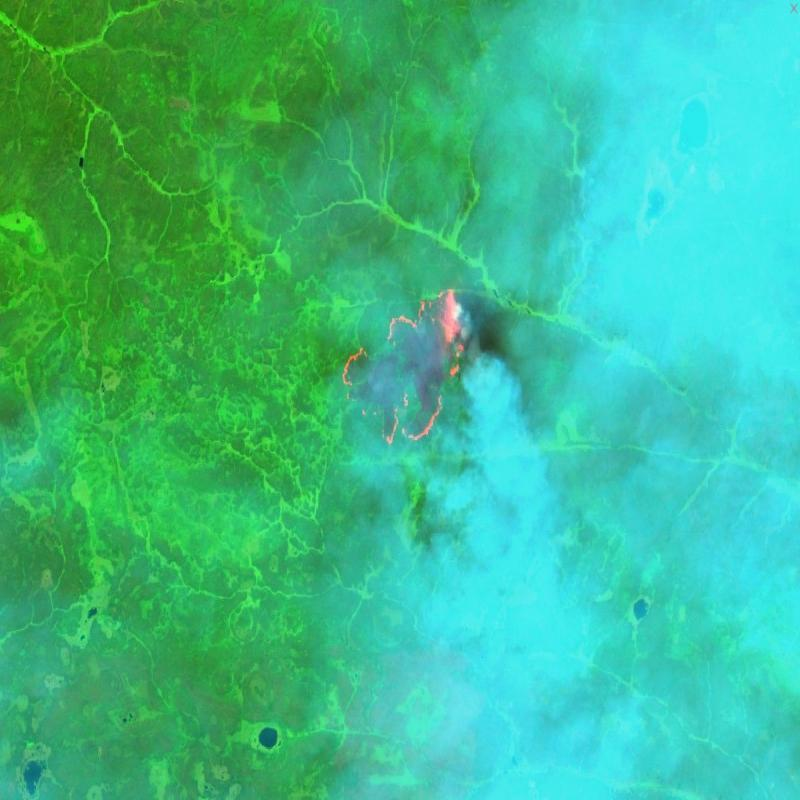fire: (333, 280, 477, 450)
